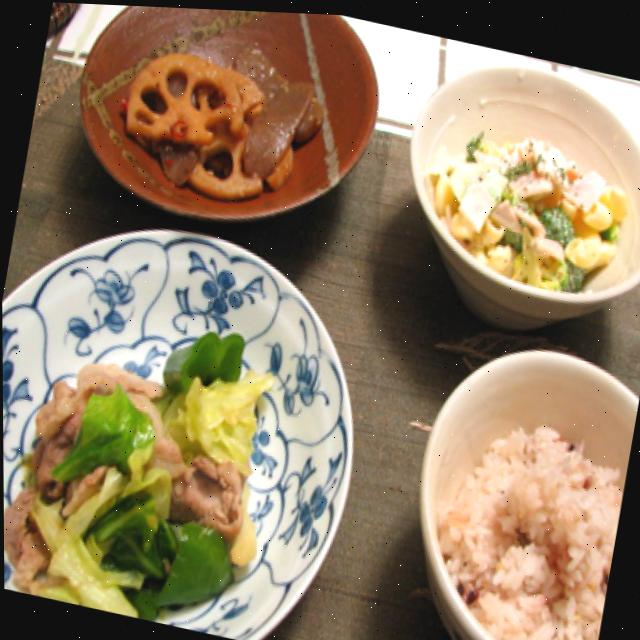蔬菜料理: (1, 244, 355, 640)
